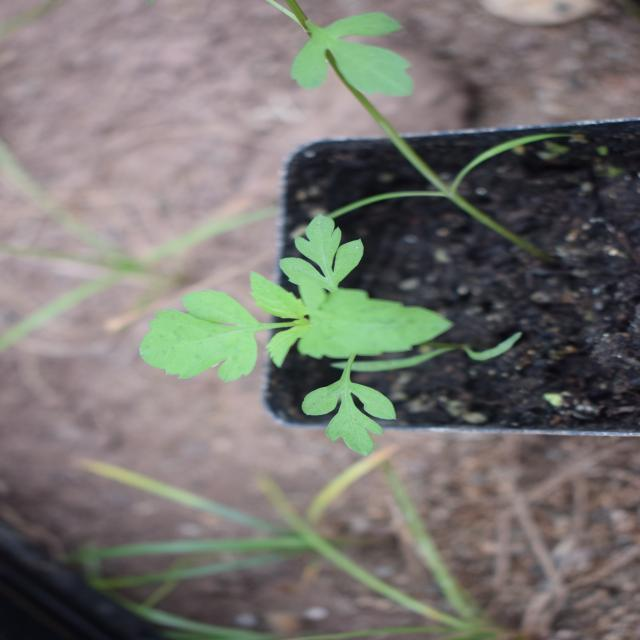Bidens pilosa: (192, 139, 427, 436)
